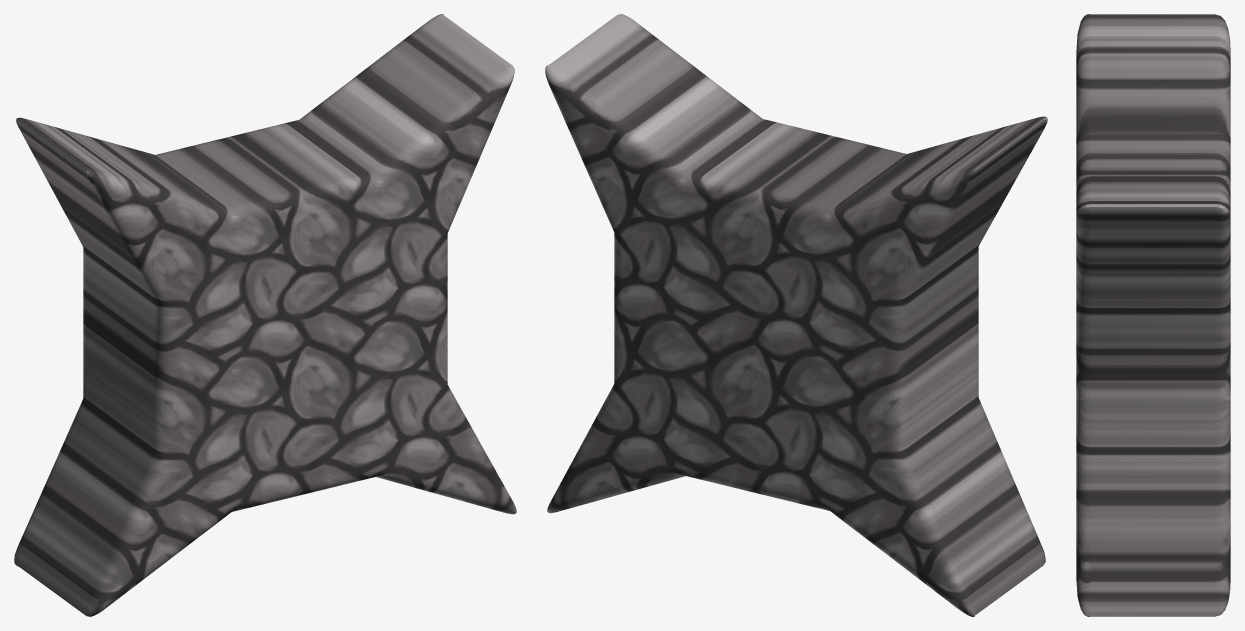
The model's file is spiky_block.FBX.
3 renders of one model, left to right at view 1: azimuth 30°, elevation 25°; view 2: azimuth 150°, elevation 25°; view 3: azimuth 270°, elevation 25°, orthographic. The views are drawn at different scales.
Visible parts, largest first — view 1: Box001; view 2: Box001; view 3: Box001.
Boxes of the visible parts, x1,y1,x2,y2 form: Box001: [14, 14, 516, 616]; Box001: [545, 14, 1047, 616]; Box001: [1076, 14, 1230, 616].
Size of the model in its own units: 2.95 by 2.94 by 1.
